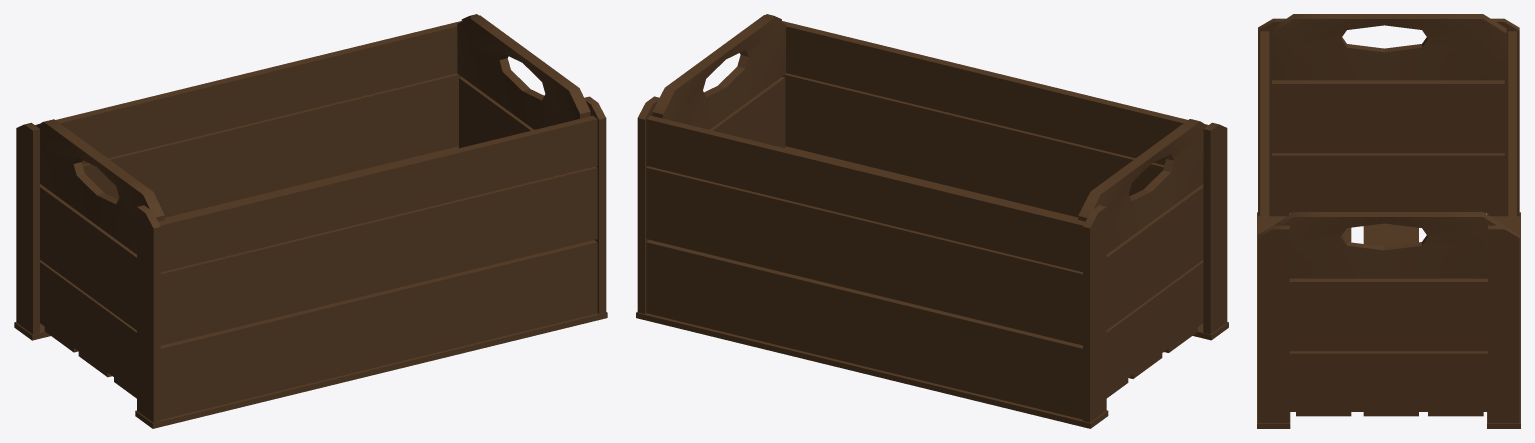
File: Caixote.fbx
The picture shows the model from 3 angles, left to right: view 1: azimuth 30°, elevation 25°; view 2: azimuth 150°, elevation 25°; view 3: azimuth 270°, elevation 25°; orthographic projection. The views are drawn at different scales.
Visible parts, largest first — view 1: polySurface2; view 2: polySurface2; view 3: polySurface2.
Boxes of the visible parts, x1,y1,x2,y2 form: polySurface2: (14,14,607,428); polySurface2: (636,14,1228,428); polySurface2: (1257,14,1520,428).
Size of the model in its own units: 6.1 by 2.79 by 3.21.
